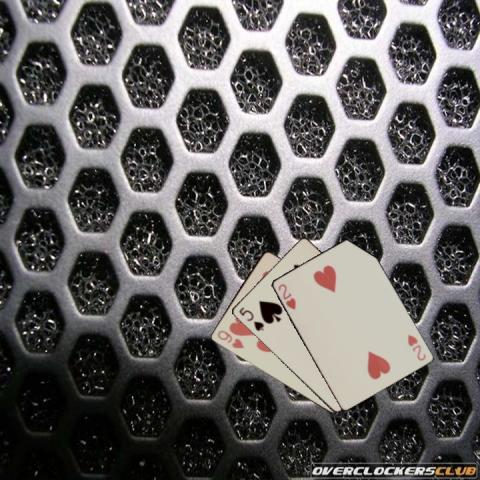2h: (404, 331, 427, 362), (274, 280, 297, 310)
5s: (236, 304, 265, 333)
9h: (214, 327, 245, 350)
